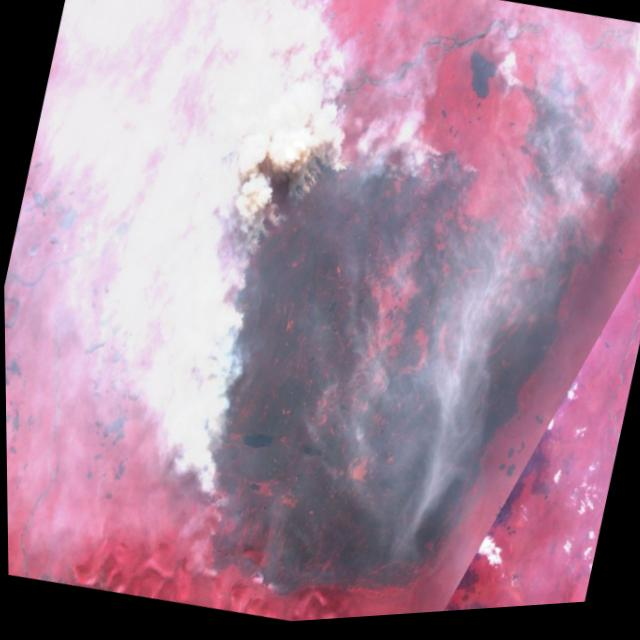fire: (132, 77, 468, 623), (493, 43, 640, 189)
